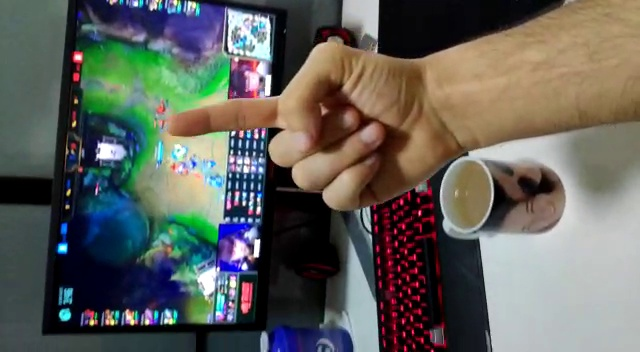One: (164, 66, 455, 160)
